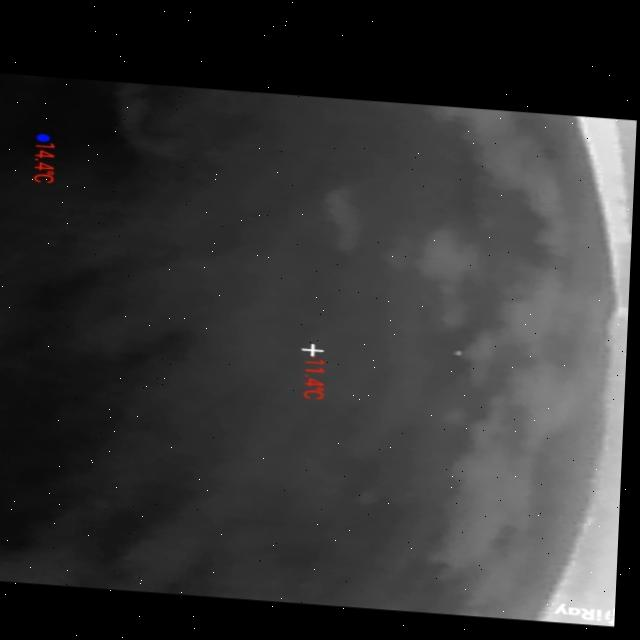drone: (456, 340, 469, 349)
